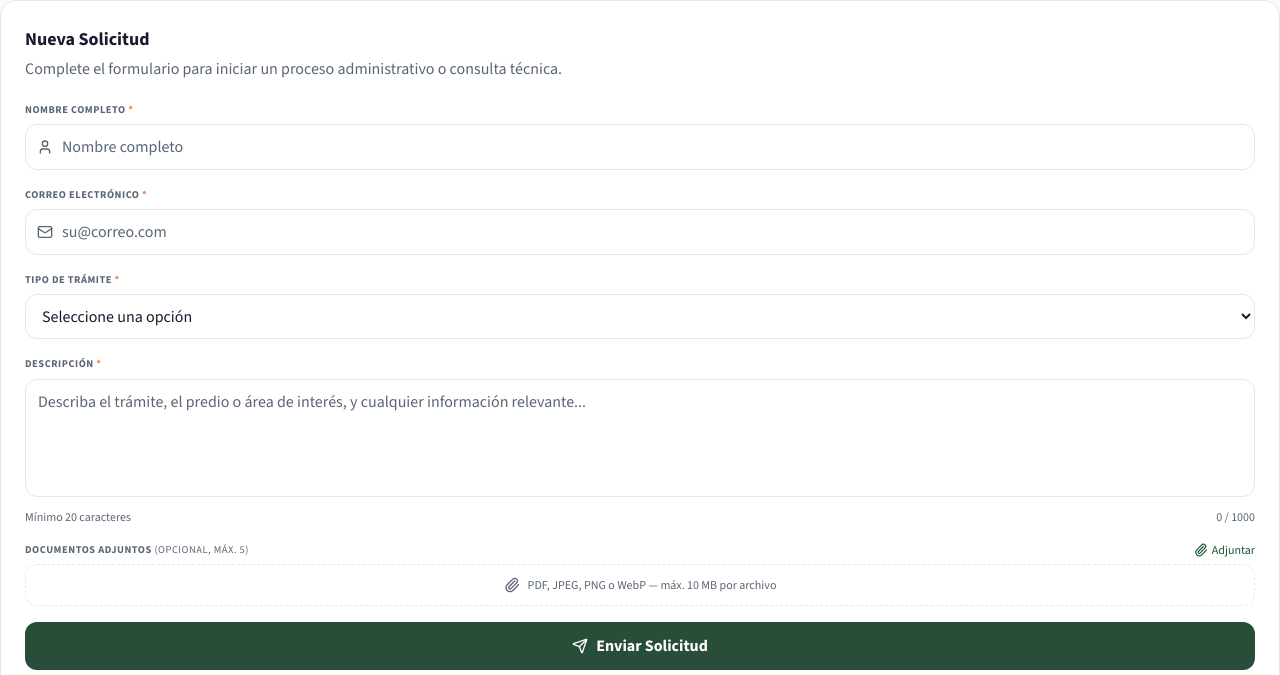
NuevaSolicitudForm — envío › un error no-429 muestra el mensaje del servidor
The width and height of the screenshot is (1280, 675).
Type "Ana Restrepo" into the field labelled "Nombre Completo *" at (640, 147), box [25,124,1255,170]
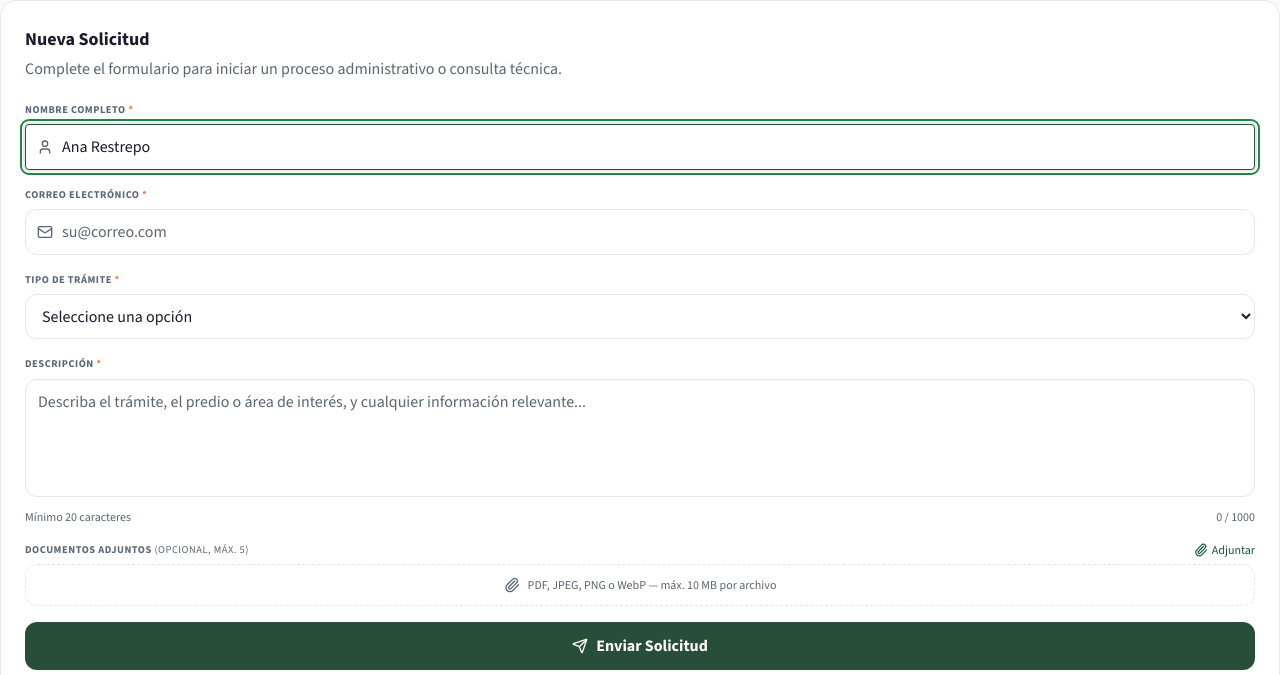
Type "ana@iiap.gov.co" into the field labelled "Correo Electrónico *" at (640, 232), box [25,209,1255,255]
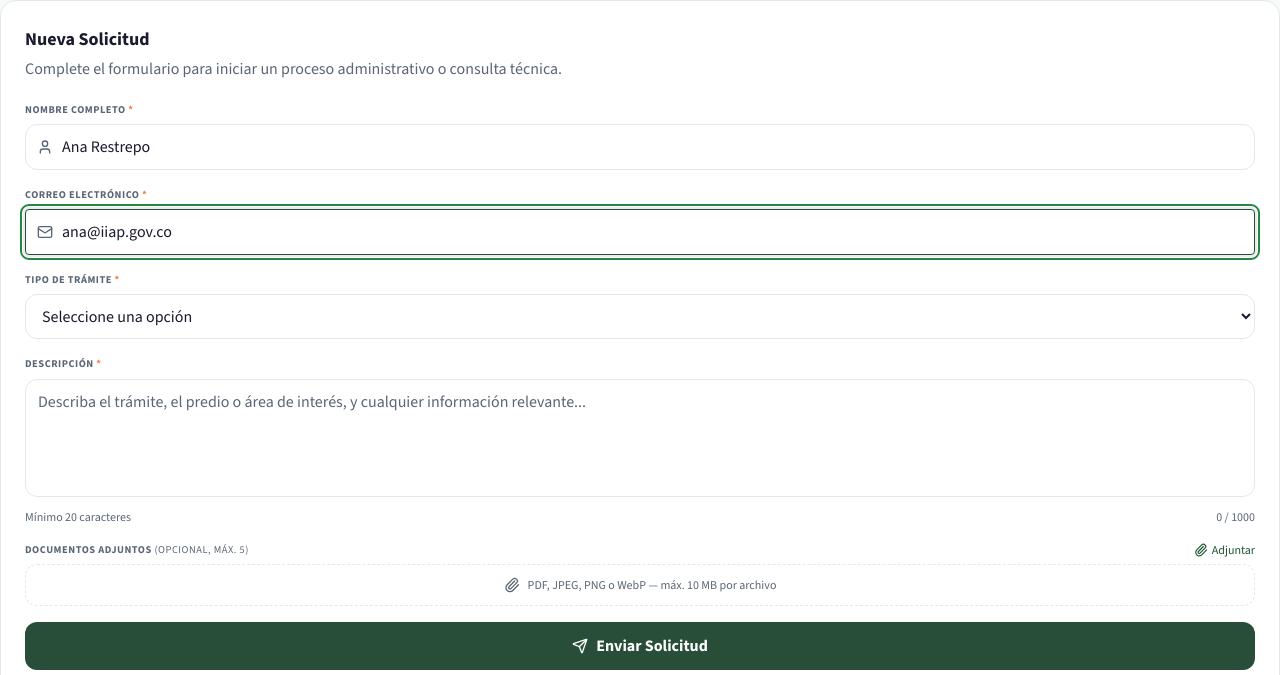
Select "Certificado de Uso de Suelo" in the dropdown labelled "Tipo de Trámite *" at (640, 317), box [25,294,1255,340]
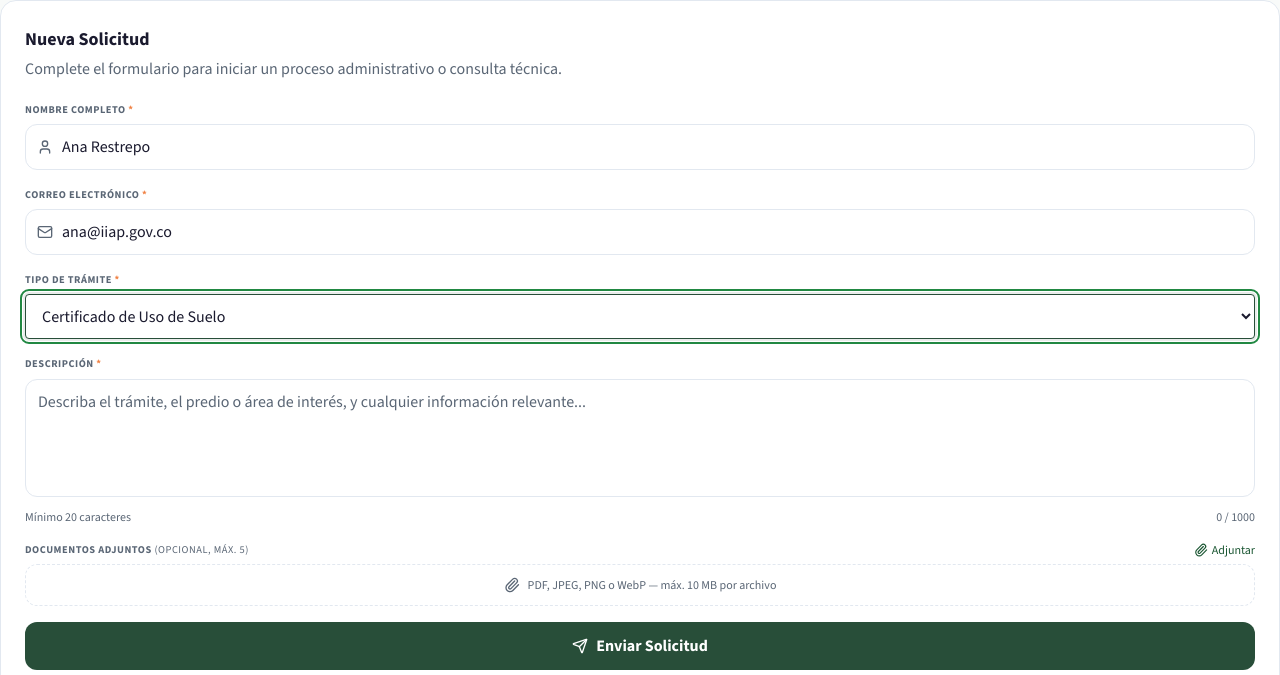
Type "Solicito certificado de uso de suelo para el predio ubicado en la vereda X." into the text box labelled "Descripción *" at (640, 438), box [25,379,1255,497]
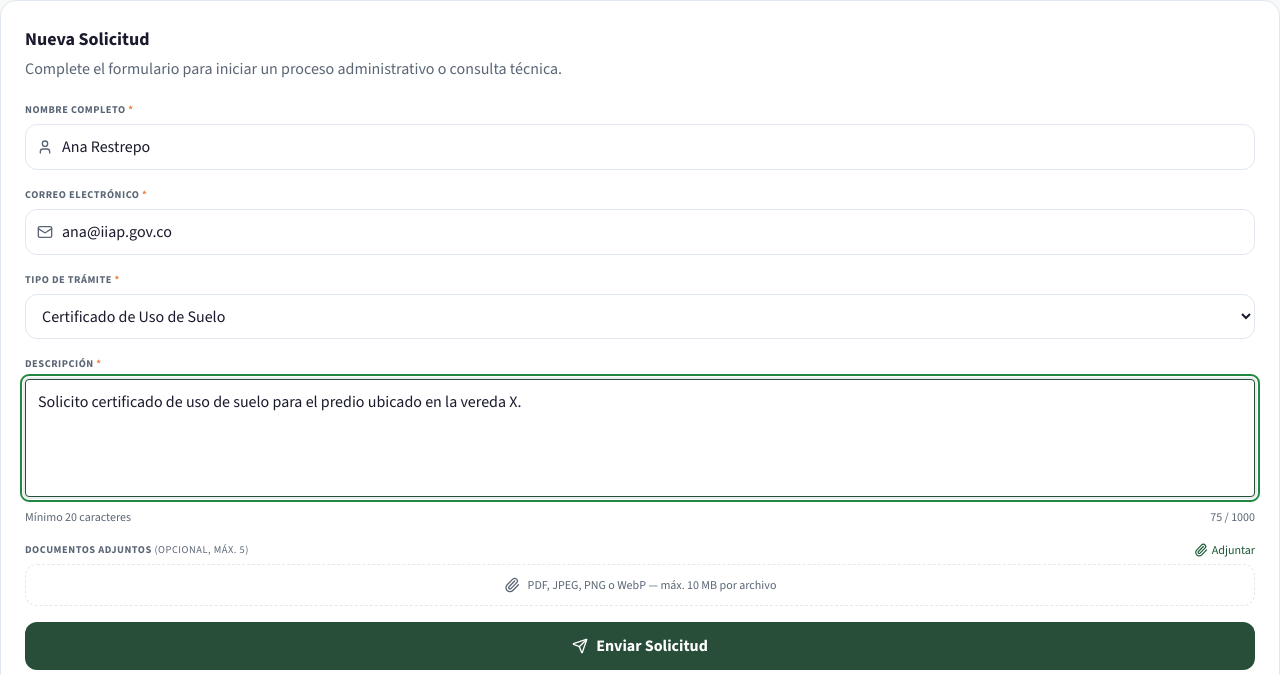
Click the button "Enviar Solicitud" at (640, 646), box [25,622,1255,670]
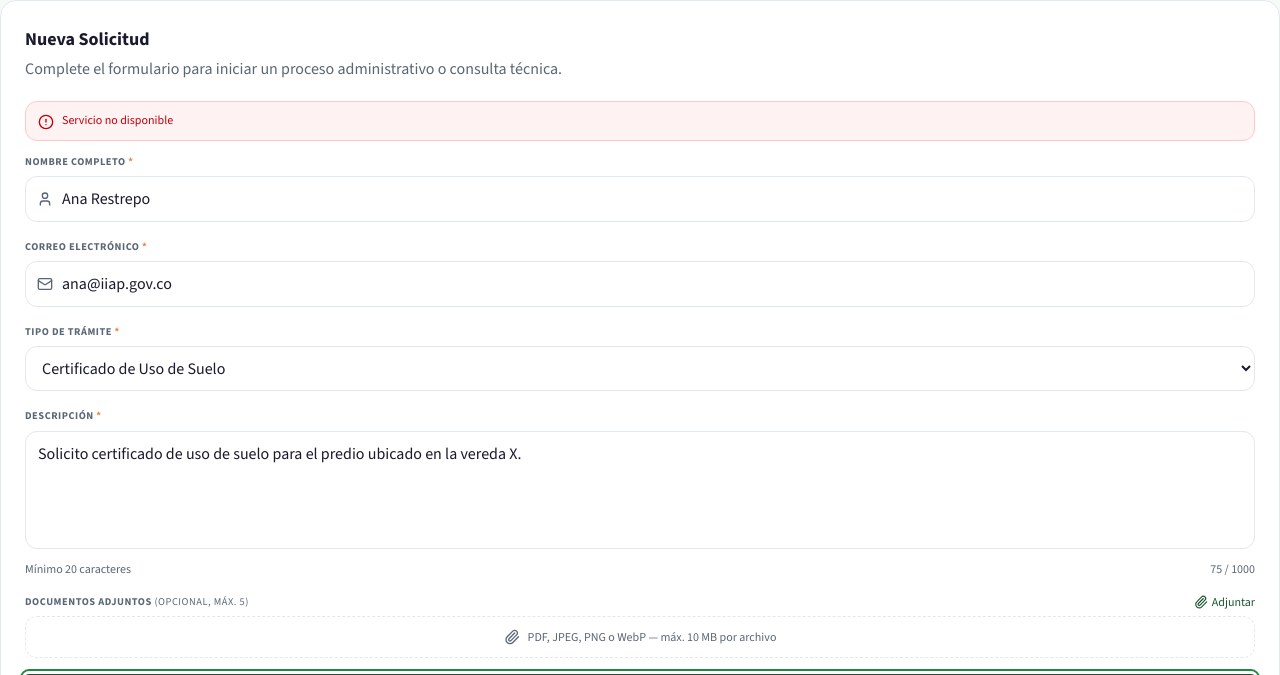
expect the text "Servicio no disponible" is shown: met, box [62,112,173,128]
